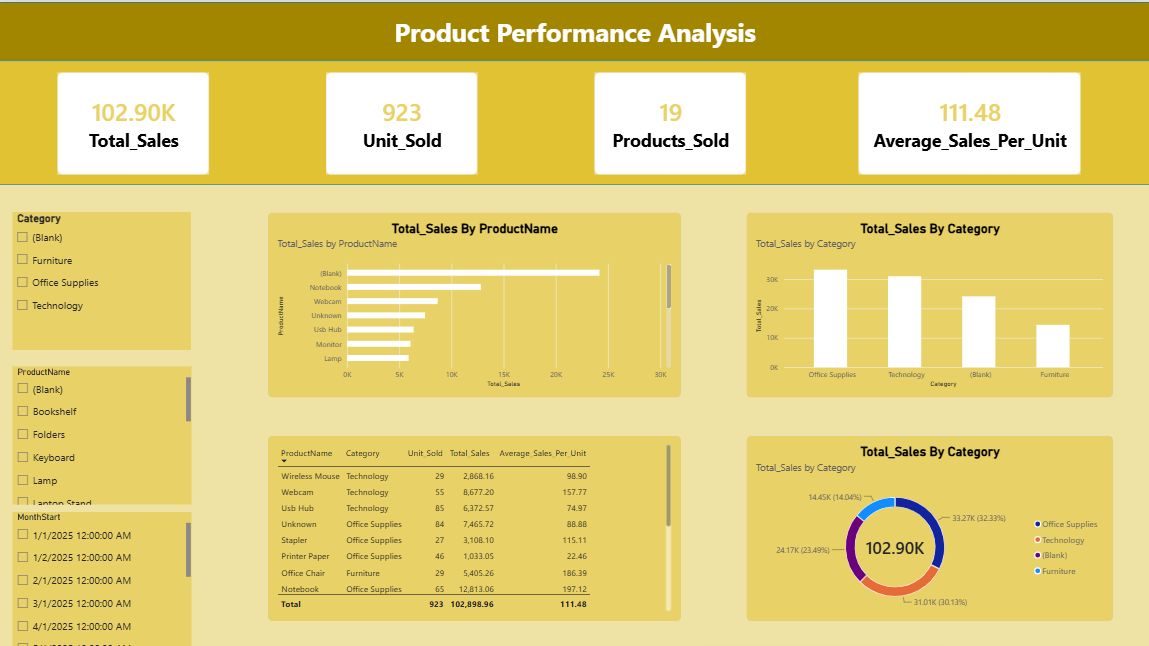

The dashboard page shown, as its layout file describes it:
{"tool":"powerbi","page":{"name":"Product Performance Analysis","canvas":[1920,1080],"ordinal":2},"visuals":[{"type":"shape","box":[0,0,1920,97.5],"z":0},{"type":"shape","box":[0,97.5,1920,207.5],"z":1},{"type":"cardVisual","fields":{"Data":["fact_Orders.Total_Sales"]},"box":[97.5,117.5,252.5,170],"z":2},{"type":"cardVisual","fields":{"Data":["fact_Orders.Unit_Sold"]},"box":[545,117.5,252.5,170],"z":3},{"type":"cardVisual","fields":{"Data":["dim_Products.Products_Sold"]},"box":[992.5,117.5,252.5,170],"z":4},{"type":"cardVisual","fields":{"Data":["dim_Products.Average_Sales_Per_Unit"]},"box":[1432.5,117.5,370,170],"z":5},{"type":"clusteredColumnChart","title":"Total_Sales By Category","fields":{"Category":["dim_Products.Category"],"Y":["fact_Orders.Total_Sales"]},"box":[1245,350,612.5,310],"z":6},{"type":"clusteredBarChart","title":"Total_Sales By ProductName","fields":{"Category":["dim_Products.ProductName"],"Y":["fact_Orders.Total_Sales"]},"box":[447.5,350,690,310],"z":7},{"type":"donutChart","title":"Total_Sales By Category","fields":{"Category":["dim_Products.Category"],"Y":["fact_Orders.Total_Sales"]},"box":[1245,722.5,612.5,310],"z":8},{"type":"tableEx","title":"Total_Sales By Category","fields":{"Values":["dim_Products.ProductName","dim_Products.Category","fact_Orders.Unit_Sold","fact_Orders.Total_Sales","dim_Products.Average_Sales_Per_Unit"]},"box":[447.5,722.5,690,310],"z":9},{"type":"slicer","title":"Total_Sales By ProductName","fields":{"Values":["dim_Products.Category"]},"box":[22.5,350,297.5,230],"z":10},{"type":"slicer","title":"Total_Sales By ProductName","fields":{"Values":["dim_Products.ProductName"]},"box":[22.5,607.5,297.5,230],"z":11},{"type":"slicer","title":"Total_Sales By ProductName","fields":{"Values":["dim_Month.MonthStart"]},"box":[22.5,850,297.5,230],"z":12}]}

Visuals, with their boxes in screenshot pixels (x1, y1, x2, y2), scaled from the page's 1920x1080 canvas onto the 1149x646 screenshot:
shape: locate(0, 0, 1148, 58)
shape: locate(0, 58, 1148, 182)
cardVisual - fact_Orders.Total_Sales: locate(58, 70, 209, 172)
cardVisual - fact_Orders.Unit_Sold: locate(326, 70, 477, 172)
cardVisual - dim_Products.Products_Sold: locate(594, 70, 745, 172)
cardVisual - dim_Products.Average_Sales_Per_Unit: locate(857, 70, 1079, 172)
"Total_Sales By Category" clusteredColumnChart: locate(745, 209, 1112, 395)
"Total_Sales By ProductName" clusteredBarChart: locate(268, 209, 681, 395)
"Total_Sales By Category" donutChart: locate(745, 432, 1112, 618)
"Total_Sales By Category" tableEx: locate(268, 432, 681, 618)
"Total_Sales By ProductName" slicer: locate(13, 209, 192, 347)
"Total_Sales By ProductName" slicer: locate(13, 363, 192, 501)
"Total_Sales By ProductName" slicer: locate(13, 508, 192, 645)
